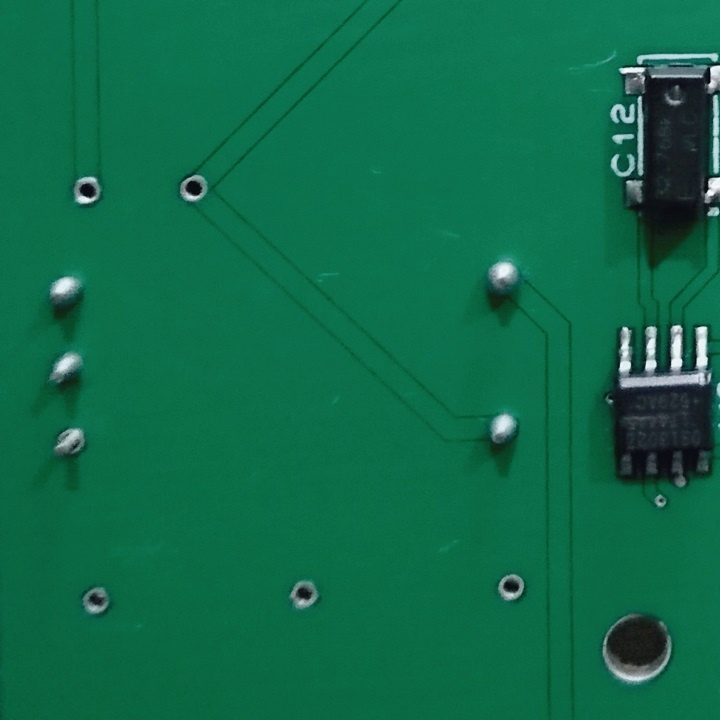F: (49, 424, 90, 464), (79, 581, 114, 617), (65, 173, 103, 206), (492, 568, 525, 604), (179, 172, 213, 206), (290, 578, 320, 613)
